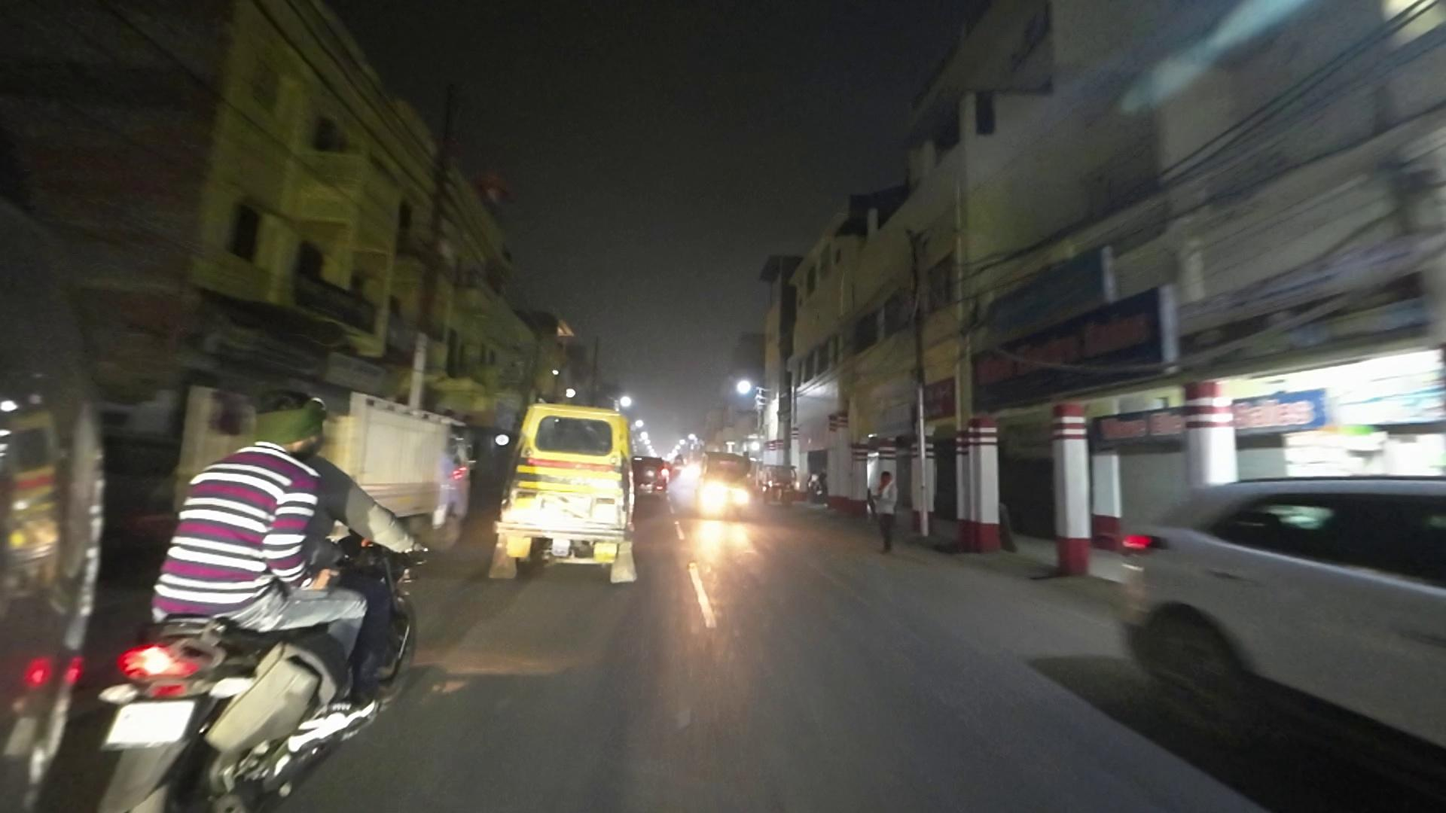streetlight: (476, 169, 511, 211)
